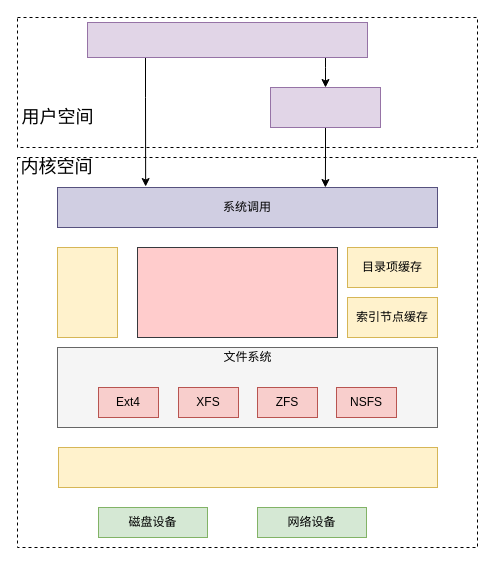
This 495x565 diagram has some shape labels left out. The centre of each missing label's shape, as x and y in pixels:
库函数: [325,107]
应用程序: [227,40]
缓冲区（Buffer）: [248,467]
虚拟文件系统（VFS）: [237,292]
页缓存: [87,292]
